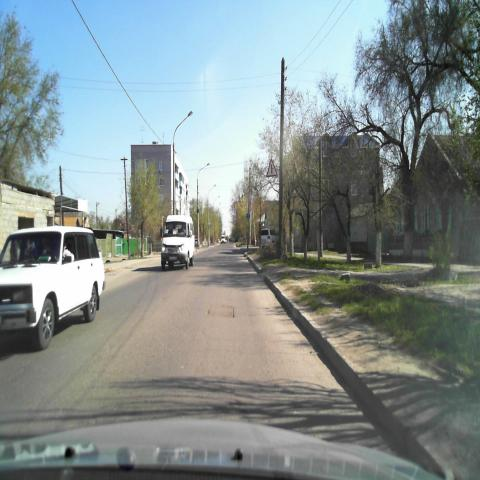2_3_2: (265, 158, 277, 178)
